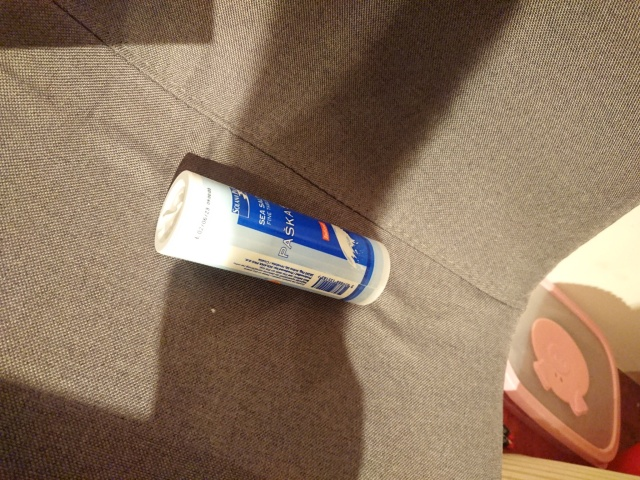Solana Pag Fine Sea Salt 250g: (151, 167, 393, 309)
